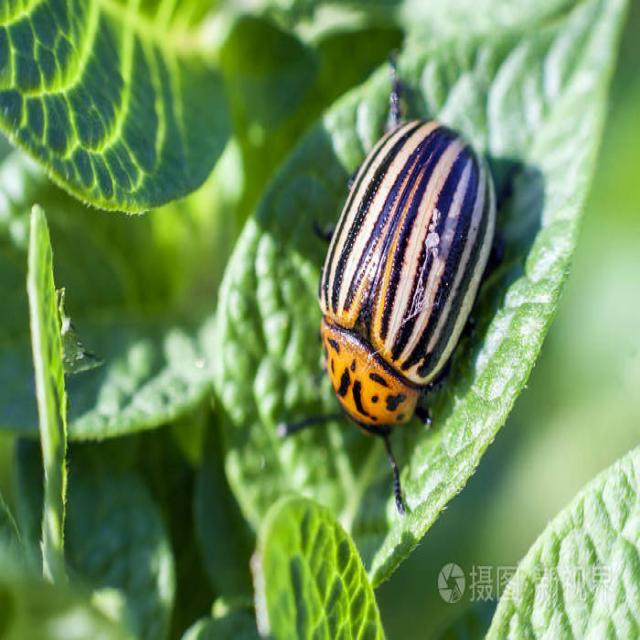ShuCaiHuaBanChong-Grown-: (307, 110, 488, 458)
